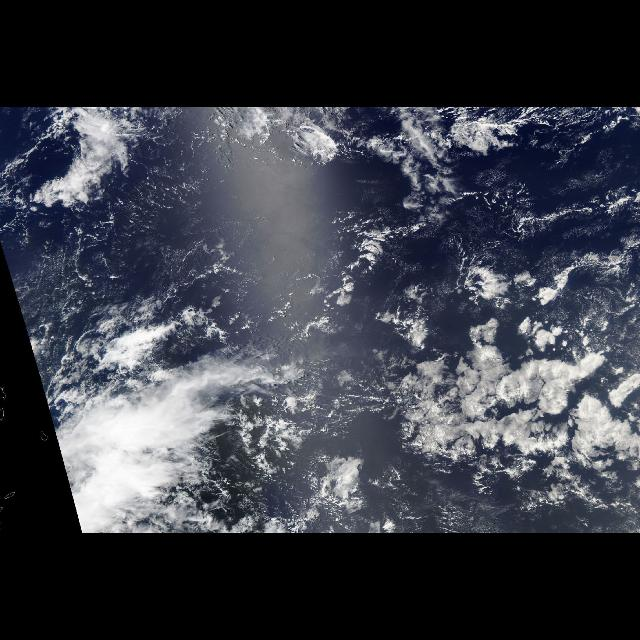Flower: (387, 304, 639, 520)
